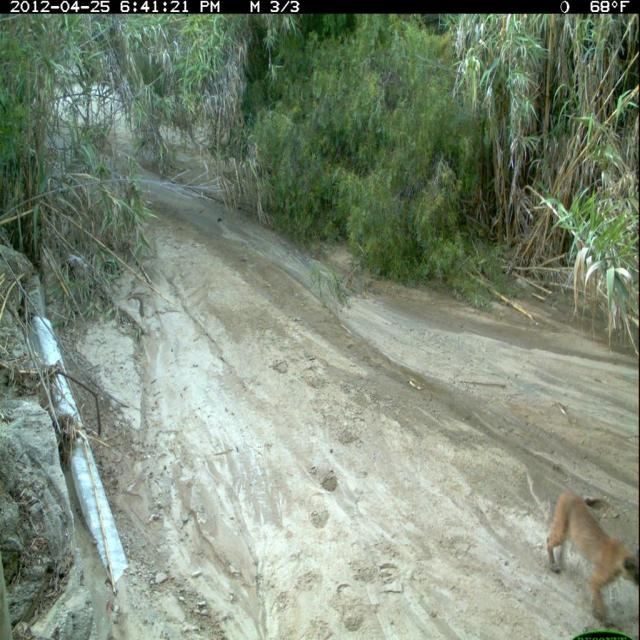bobcat: (544, 486, 640, 629)
